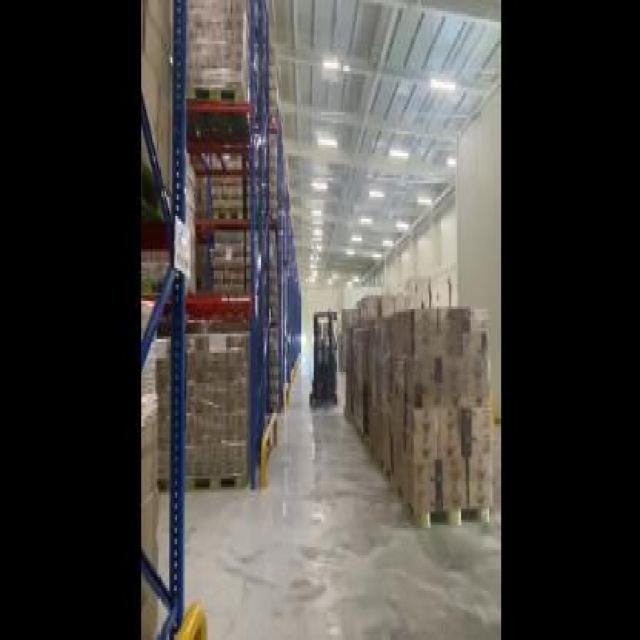box: (171, 3, 272, 498), (140, 2, 191, 624), (346, 323, 492, 533), (268, 79, 300, 402), (340, 273, 460, 312)
robot: (307, 304, 338, 410)
